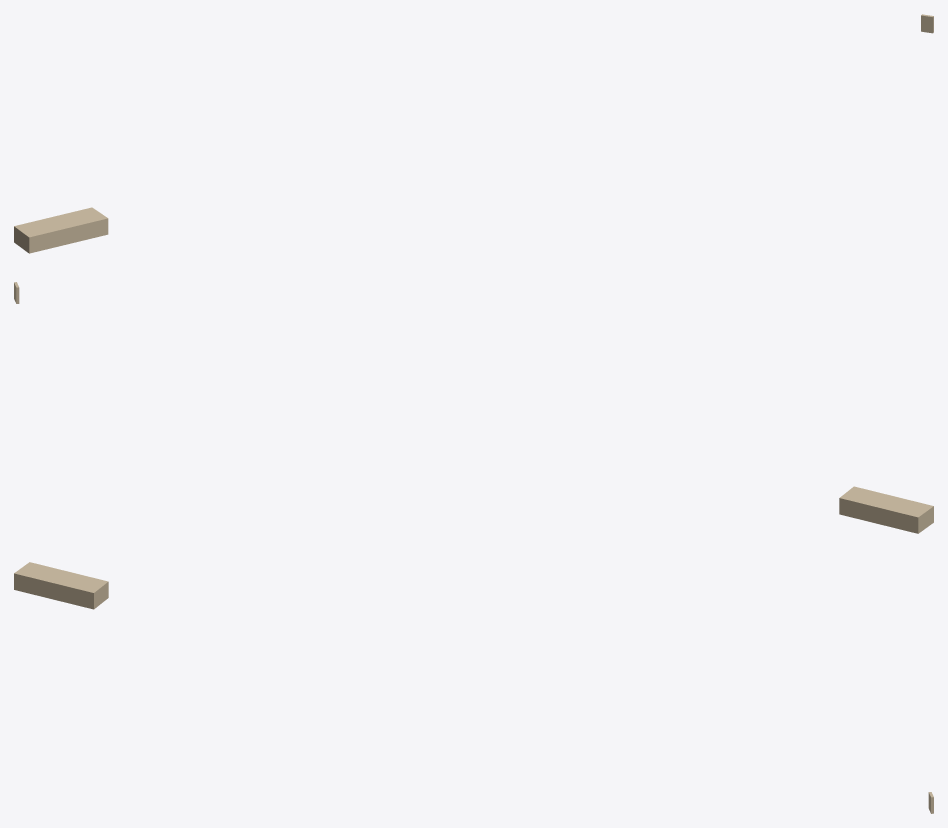
Rendered from 1_4-estimated-coarse.glb.
The picture shows the model from 3 angles, top to bottom: view 1: azimuth 30°, elevation 25°; view 2: azimuth 150°, elevation 25°; view 3: azimuth 330°, elevation 25°; orthographic projection.
Bounding box in the file's own units: 702 × 12 × 20.97.
